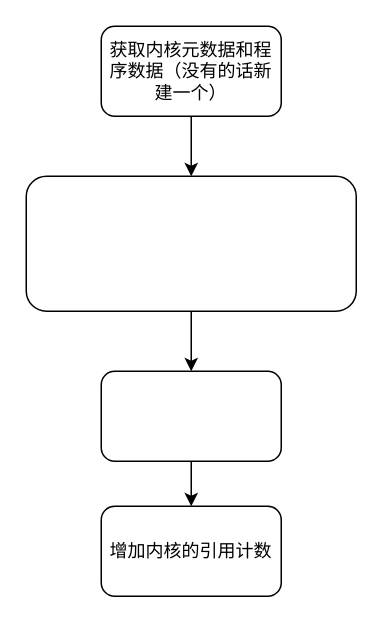
Some shapes in this 383 by 623 pixel diagram are drawn without their labels. Each missing label, with the centre of its shape:
根据偏移量（在clBuildKernel中用到的）获取CUDA内核函数: point (190, 243)
获取内存对齐信息: point (190, 415)
